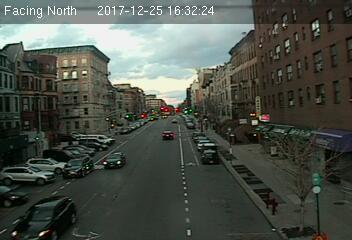car: (8, 190, 74, 240), (63, 157, 95, 177), (103, 152, 126, 167), (202, 149, 218, 165), (161, 129, 173, 139)
